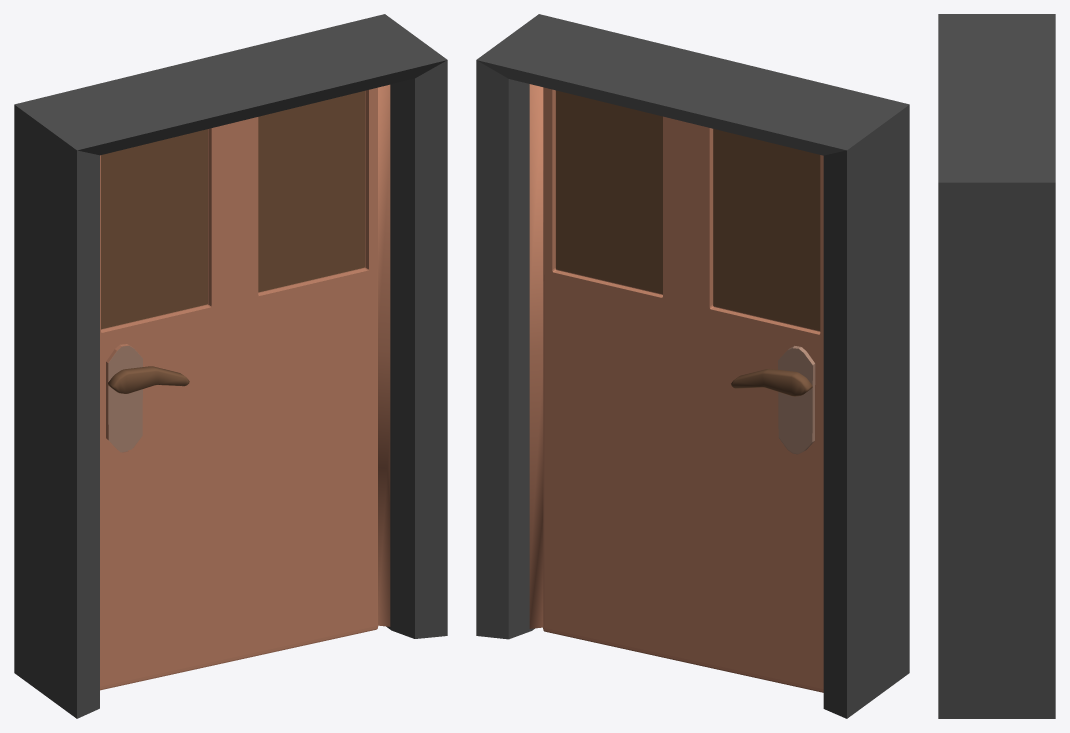
The model's file is Door.fbx.
3 views of the same model, side by side, from view 1: azimuth 30°, elevation 25°; view 2: azimuth 150°, elevation 25°; view 3: azimuth 270°, elevation 25° (orthographic). The views are drawn at different scales.
Visible parts, largest first — view 1: Door, Door Holder, Door Handle; view 2: Door, Door Holder, Door Handle; view 3: Door Holder.
Boxes of the visible parts, <box> form: Door: <box>100,84,390,690</box>; Door Holder: <box>14,14,447,718</box>; Door Handle: <box>108,366,189,393</box>; Door: <box>529,84,823,692</box>; Door Holder: <box>476,14,909,718</box>; Door Handle: <box>731,368,812,396</box>; Door Holder: <box>938,14,1055,718</box>.
Bounding box in the file's own units: 142 × 211 × 41.56.
